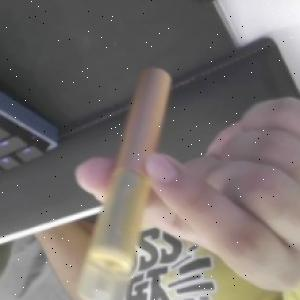Golden-E-Ciggirate: (80, 64, 173, 300)
